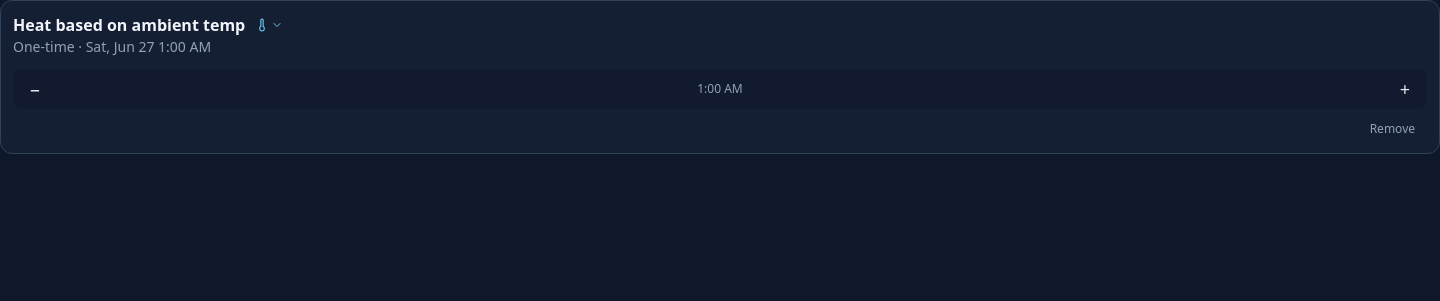
Test: EventCard ambient-matched (dynamic) heat mode › explains why the temperature control is missing
Step 1. Click the button with test id "event-dynamic-chip" → point(269, 25), box [251,13,287,37]
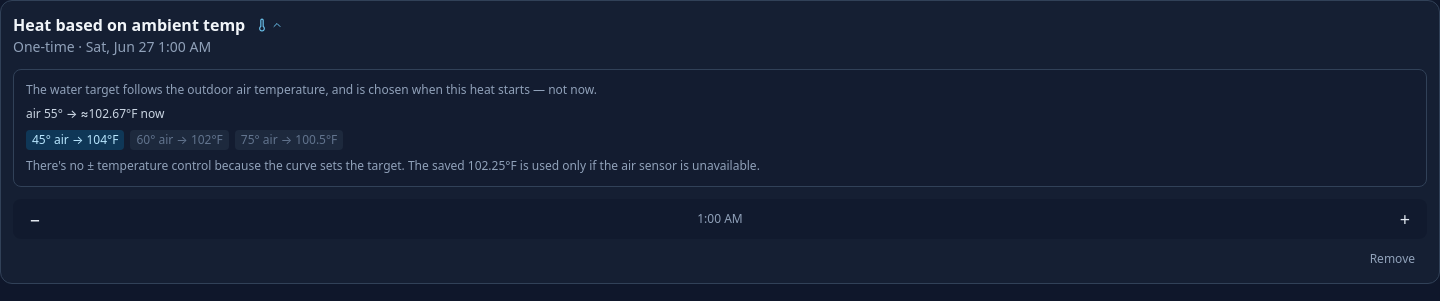
expect the text with test id "event-dynamic-steppers-note" shows "102.25": met, box [26,157,760,174]
